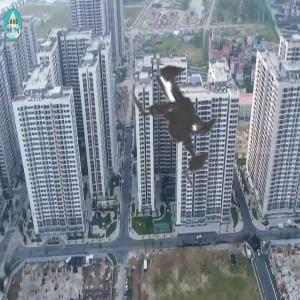drone: (82, 6, 297, 221)
